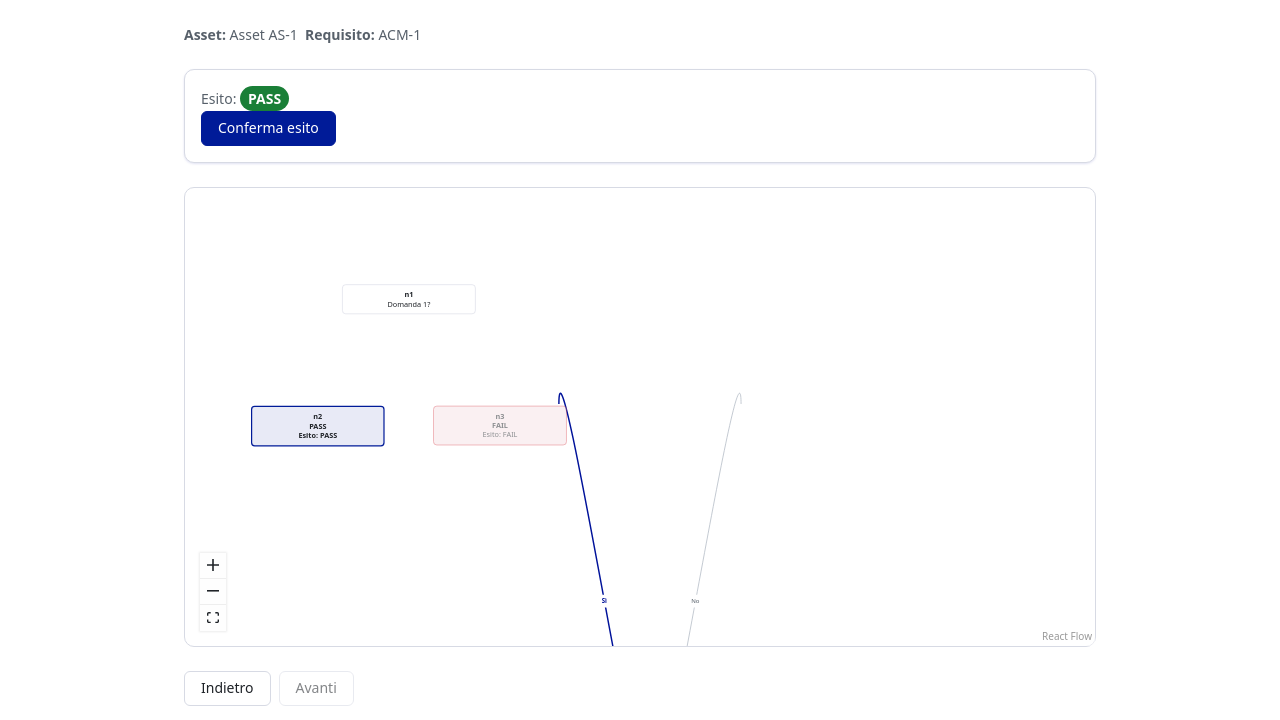
Test: SessionRunnerPage › torna avanti sul nodo già risposto dopo un Indietro (RF-D09)
Expected: the button "Conferma esito" is shown, [201,111,336,146]
Expected: the button "Avanti" is disabled, [278,671,354,706]
Click the button "Indietro" at {"x": 227, "y": 688}, box [184,671,270,706]
(page scrolled)
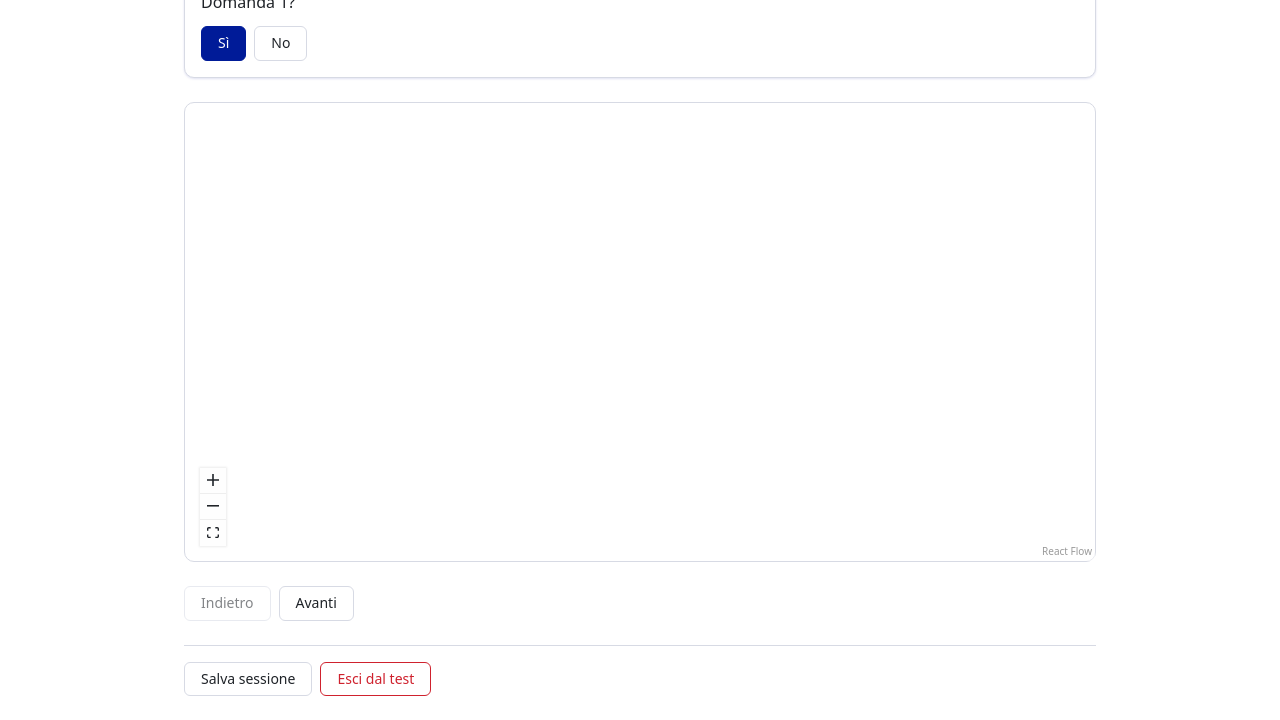
Expected: the button "Avanti" is enabled
Click the button "Avanti" at {"x": 316, "y": 603}, box [278,586,354,621]
(page scrolled)
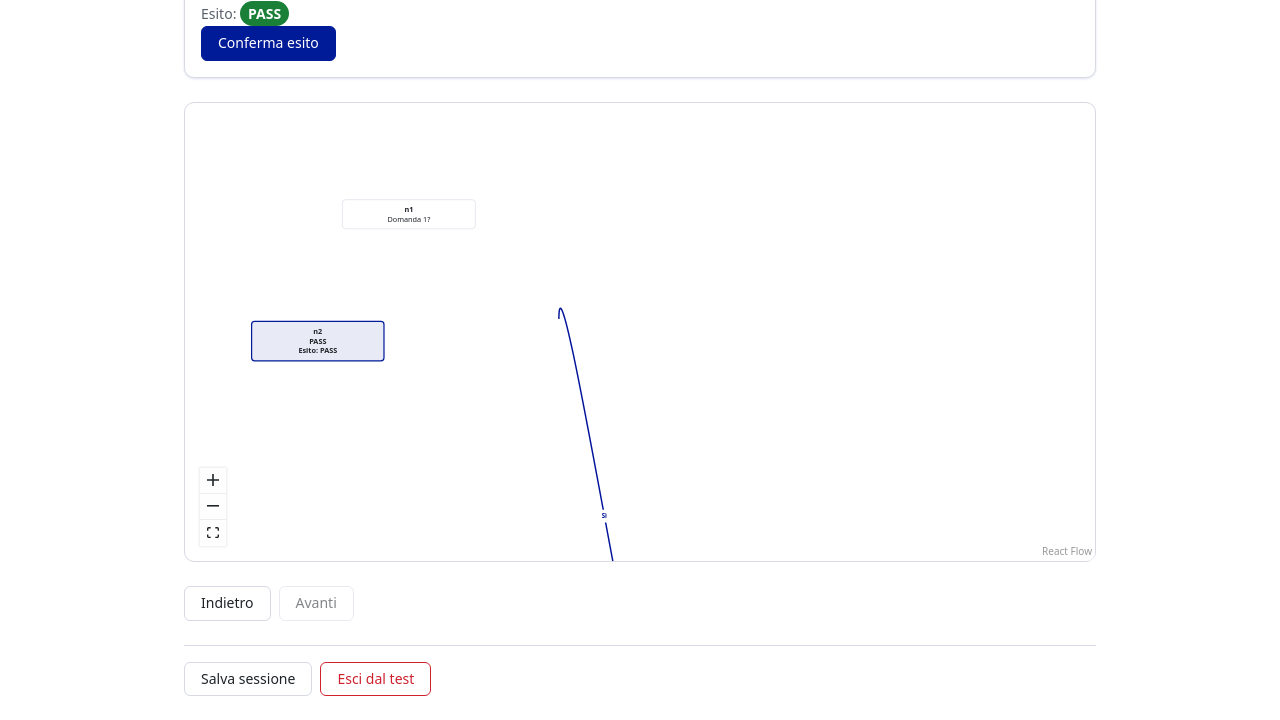
Expected: the button "Conferma esito" is shown, [201,26,336,61]
Expected: the 1st text "PASS" is shown, [240,1,289,26]
